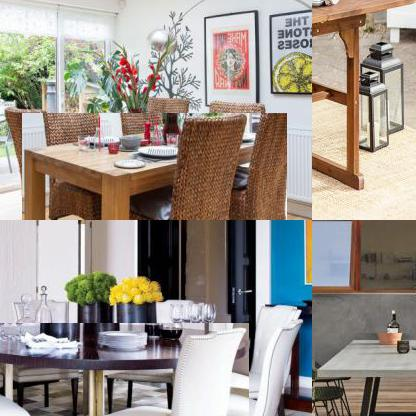table: (21, 113, 288, 219), (0, 322, 250, 415), (312, 0, 415, 219), (314, 333, 415, 415)
